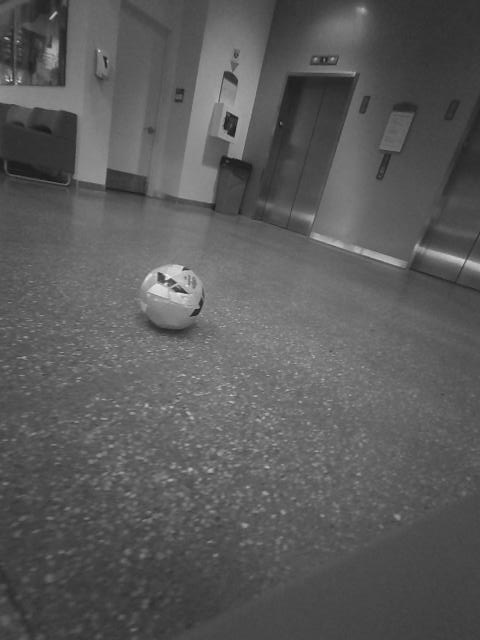ball: (300, 318, 367, 386)
